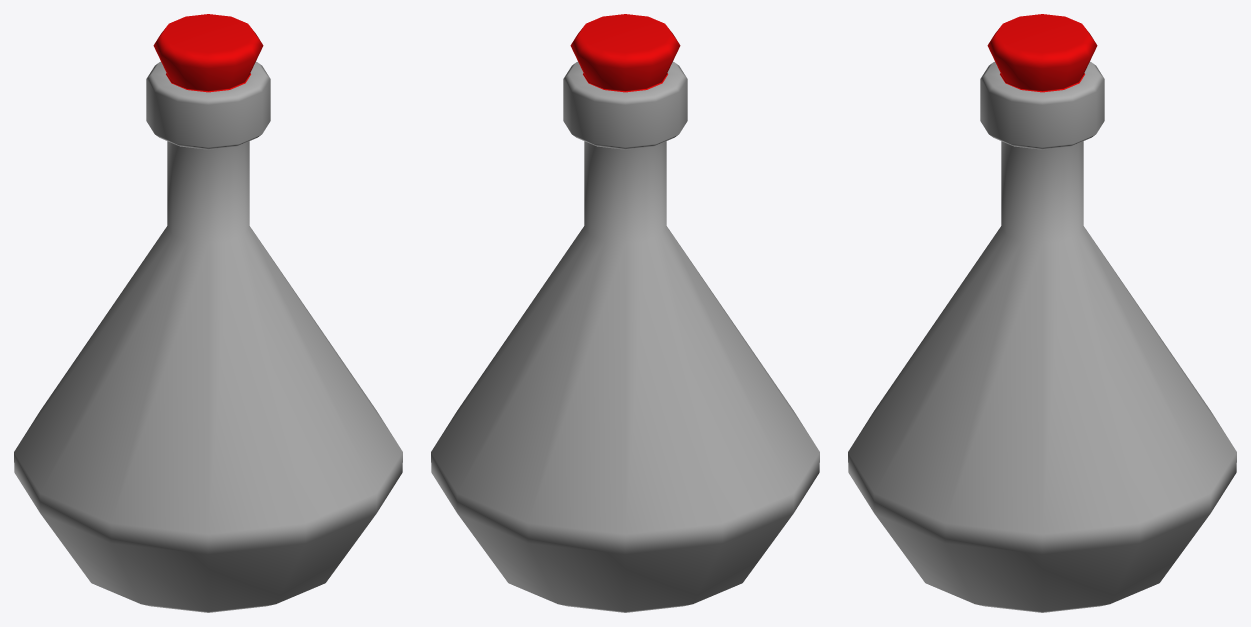
Rendered from Potion Spread.fbx.
3 views of the same model, side by side, from view 1: azimuth 30°, elevation 25°; view 2: azimuth 150°, elevation 25°; view 3: azimuth 270°, elevation 25° (orthographic).
Visible parts, largest first — view 1: pCone9; view 2: pCone9; view 3: pCone9.
Part boxes in pixels (<box>): pCone9: <box>14,14,402,612</box>; pCone9: <box>431,14,819,612</box>; pCone9: <box>848,14,1236,612</box>.
Bounding box in the file's own units: 1.51 × 2.27 × 1.51.
